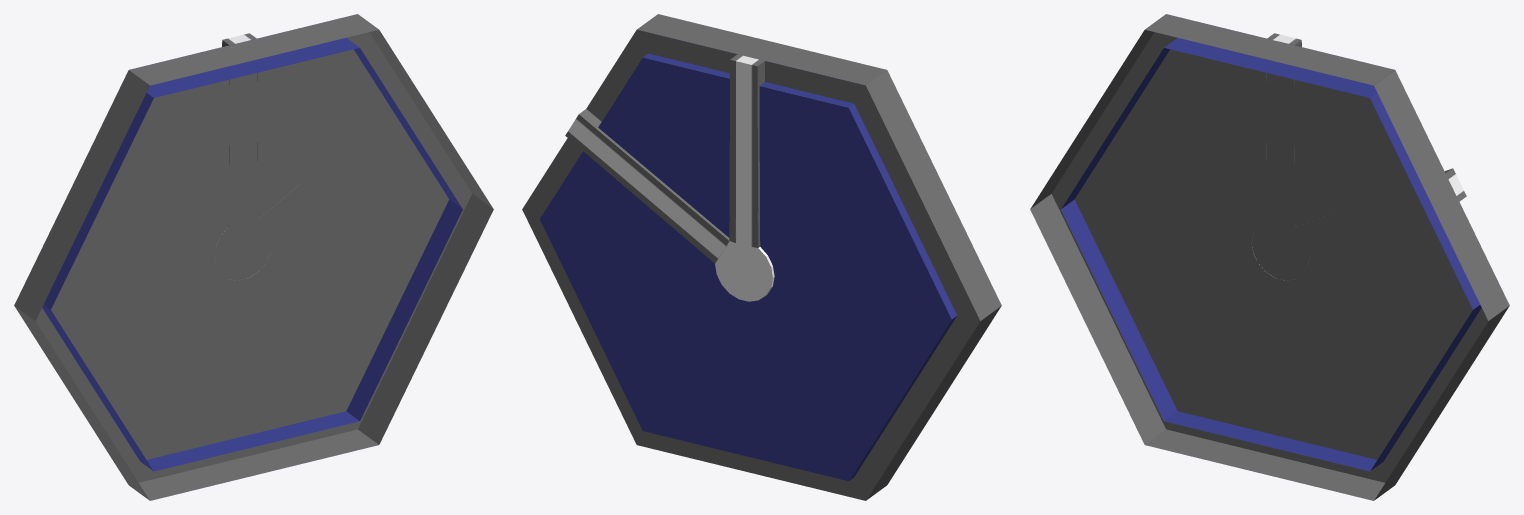
The model's file is Hexagons Middle 2 Trails.fbx.
3 renders of one model, left to right at view 1: azimuth 30°, elevation 25°; view 2: azimuth 150°, elevation 25°; view 3: azimuth 330°, elevation 25°, orthographic.
Parts seen in each view (by area): view 1: Cylinder.050; view 2: Cylinder.050; view 3: Cylinder.050.
Boxes of the visible parts, left/top/right/bottom form: Cylinder.050: left=14, top=14, right=493, bottom=500; Cylinder.050: left=522, top=14, right=1001, bottom=500; Cylinder.050: left=1030, top=14, right=1509, bottom=500.
Bounding box in the file's own units: 14.16 × 12.27 × 1.54.
Materials: 1 (1 with a texture image).
